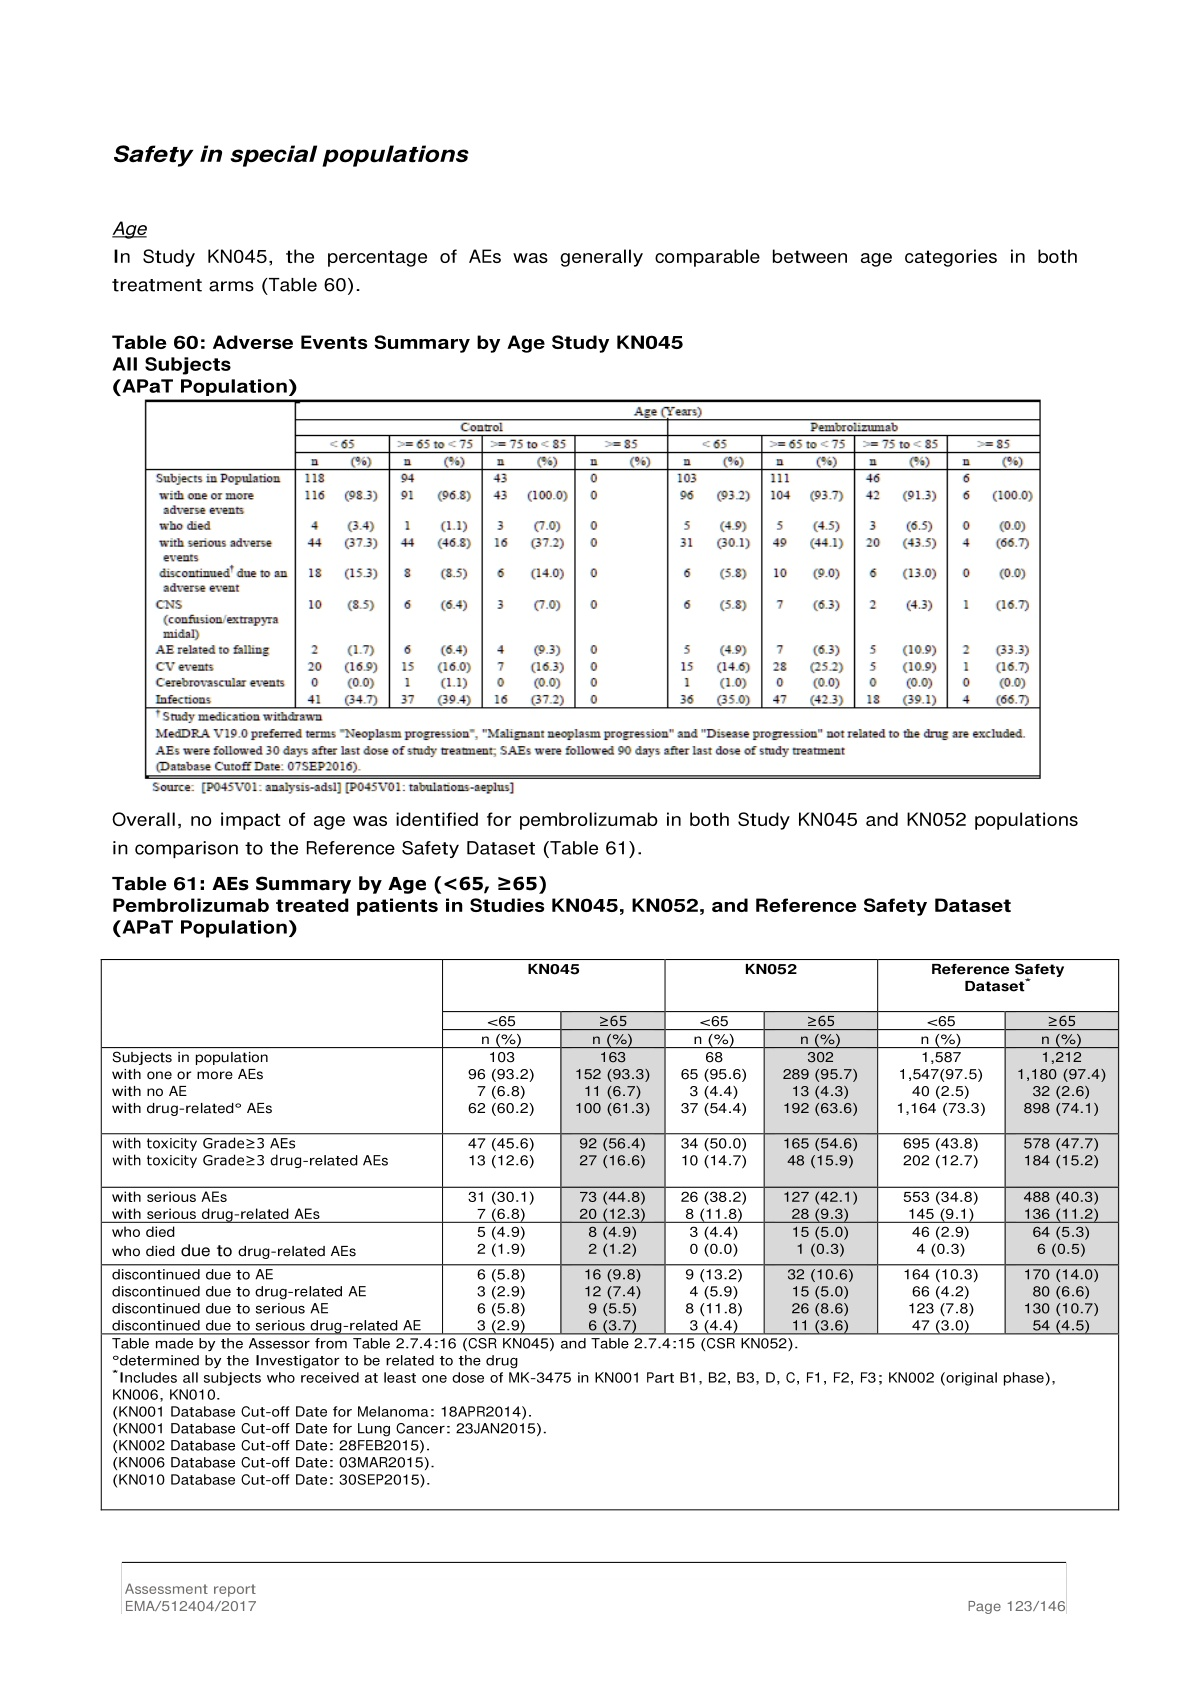partial_lined_merged_cells: (100, 957, 1120, 1513), (144, 398, 1042, 779)
